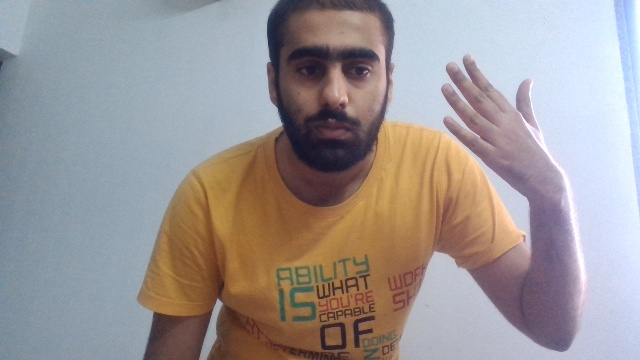paper: (440, 52, 563, 199)
